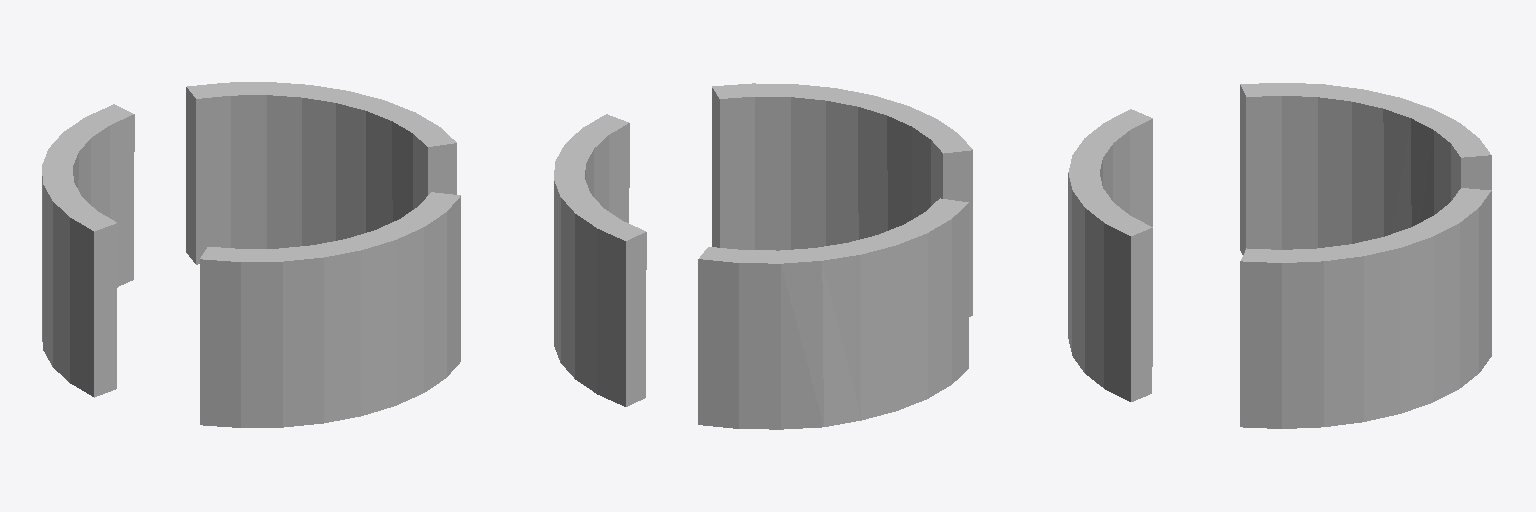
The model's file is salarellena.obj.
3 renders of one model, left to right at view 1: azimuth 30°, elevation 25°; view 2: azimuth 150°, elevation 25°; view 3: azimuth 270°, elevation 25°, orthographic.
Visible parts, largest first — view 1: Cylinder; view 2: Cylinder; view 3: Cylinder.
Boxes of the visible parts, box(x1,y1,x2,y2) form: Cylinder: box(42, 82, 460, 427); Cylinder: box(554, 83, 972, 429); Cylinder: box(1068, 83, 1491, 428).
Size of the model in its own units: 14 by 6.01 by 13.87.